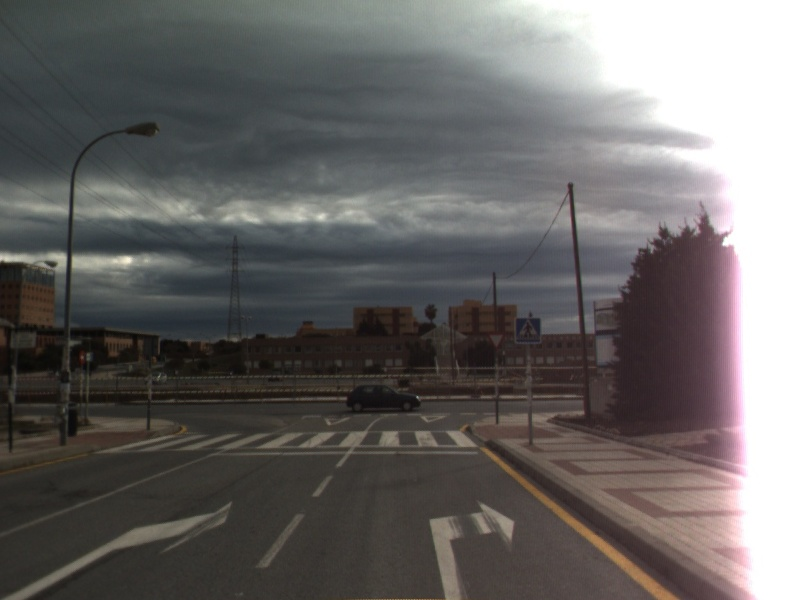RIGHT: (1, 498, 235, 600), (427, 496, 517, 600)
